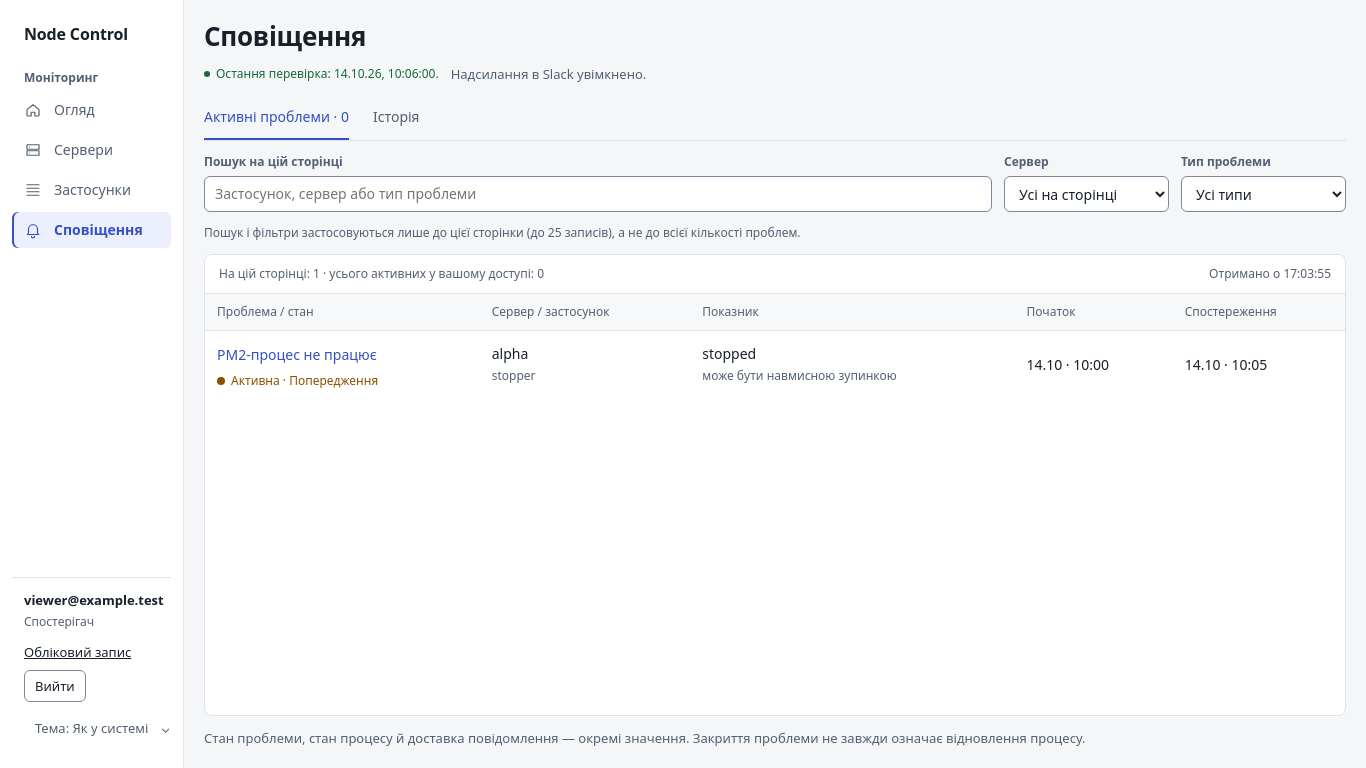
Test: alerts: list (NTF-01/02) and its states (NTF-05/06/07) › history: closing is not recovery (process_gone / excluded / retired / no reason); stopped may be intentional
Expected: the text "може бути навмисною зупинкою" is shown, [702, 366, 897, 384]
Step 1. Click the tab "Історія" → (396, 118), box [373, 96, 419, 140]
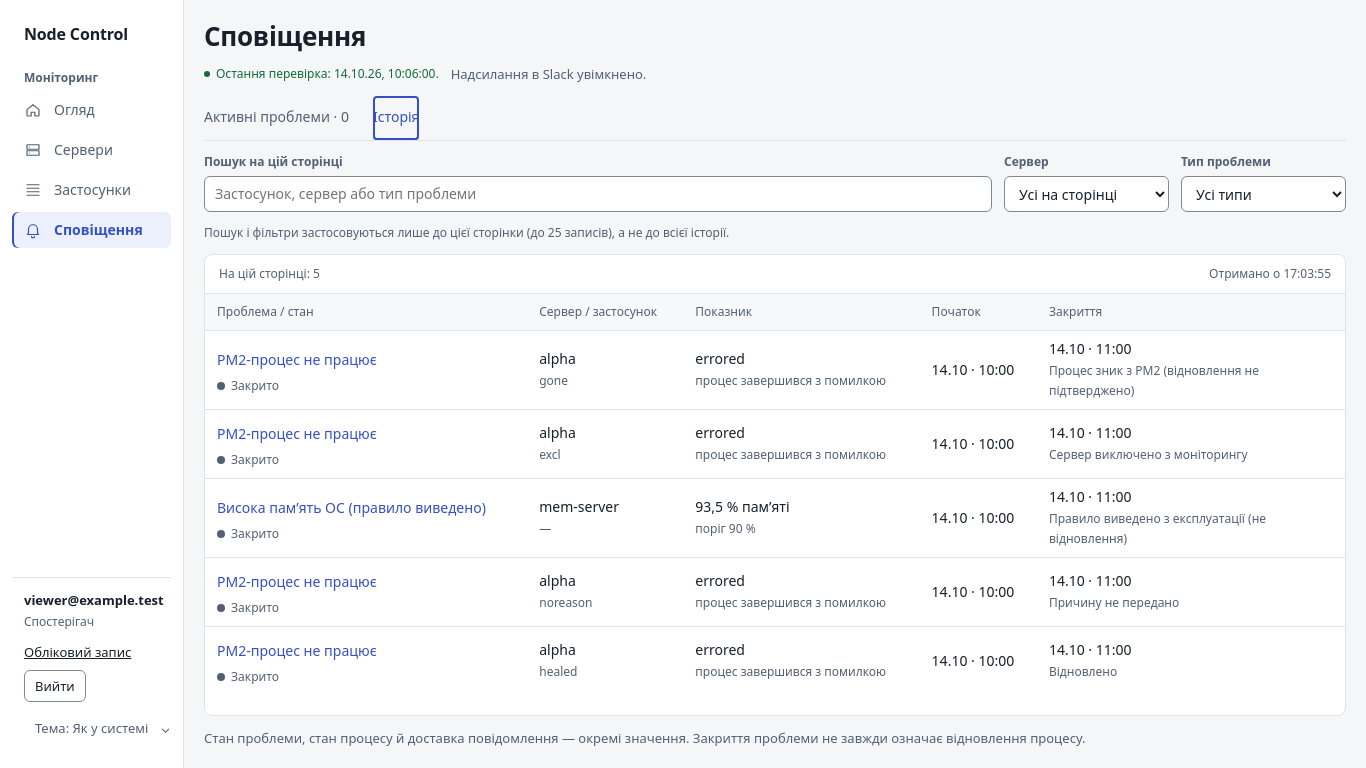
Expected: the column heading "Закриття" is shown, [1037, 294, 1345, 330]
Expected: the text "Процес зник з PM2 (відновлення не підтверджено)" is shown, [1049, 362, 1259, 398]
Expected: the text "Сервер виключено з моніторингу" is shown, [1049, 446, 1248, 462]
